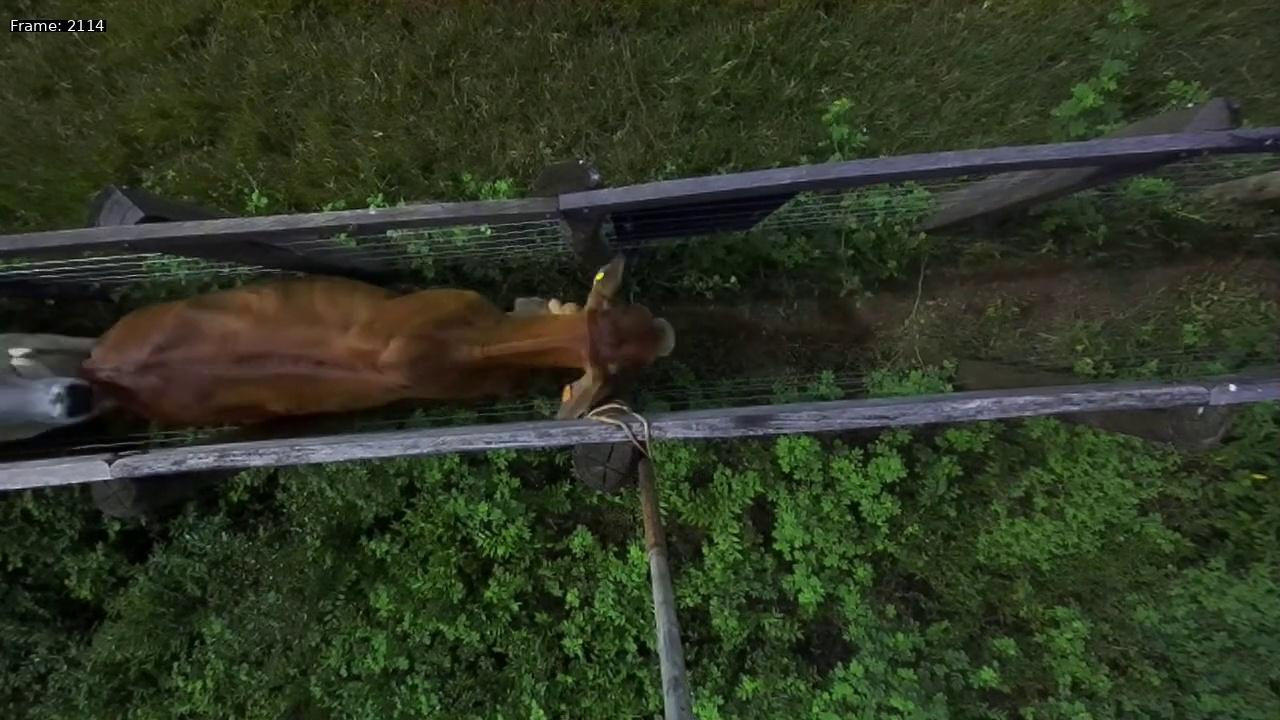cattle: (77, 234, 683, 448)
